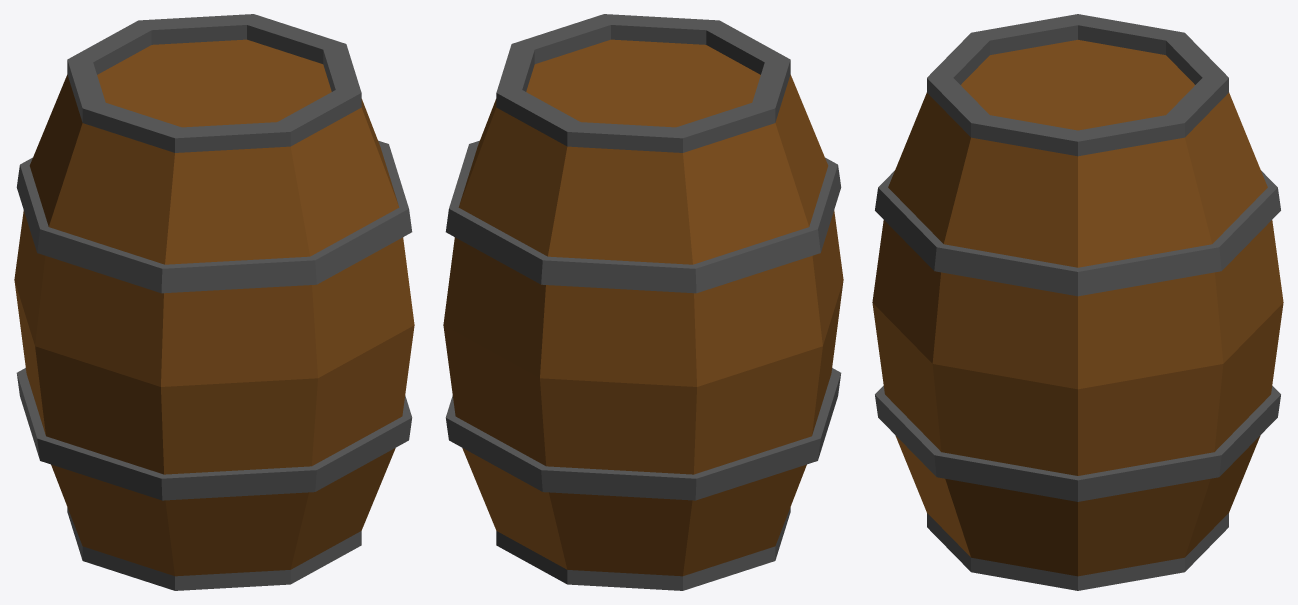
The model's file is Barrel.fbx.
The picture shows the model from 3 angles, left to right: view 1: azimuth 30°, elevation 25°; view 2: azimuth 150°, elevation 25°; view 3: azimuth 270°, elevation 25°; orthographic projection.
Parts seen in each view (by area): view 1: Barrel; view 2: Barrel; view 3: Barrel.
Boxes of the visible parts, x1,y1,x2,y2 form: Barrel: [14, 14, 414, 590]; Barrel: [443, 14, 843, 590]; Barrel: [872, 14, 1283, 590].
Bounding box in the file's own units: 2.72 × 3.28 × 2.72.
